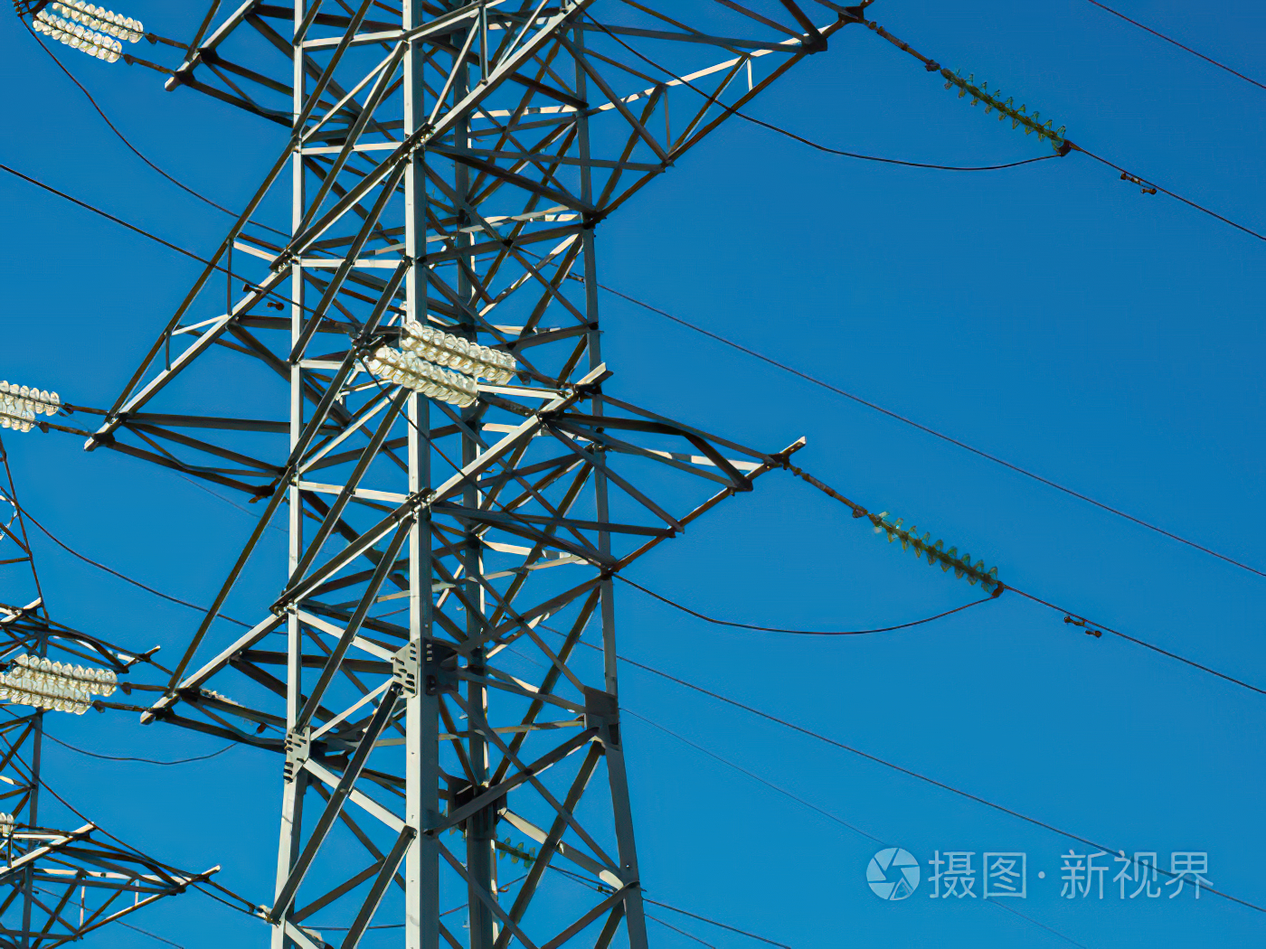insulator: (369, 317, 516, 409), (866, 507, 1001, 595), (942, 68, 1075, 150), (1, 656, 115, 717), (33, 5, 138, 66), (1, 377, 61, 435)
